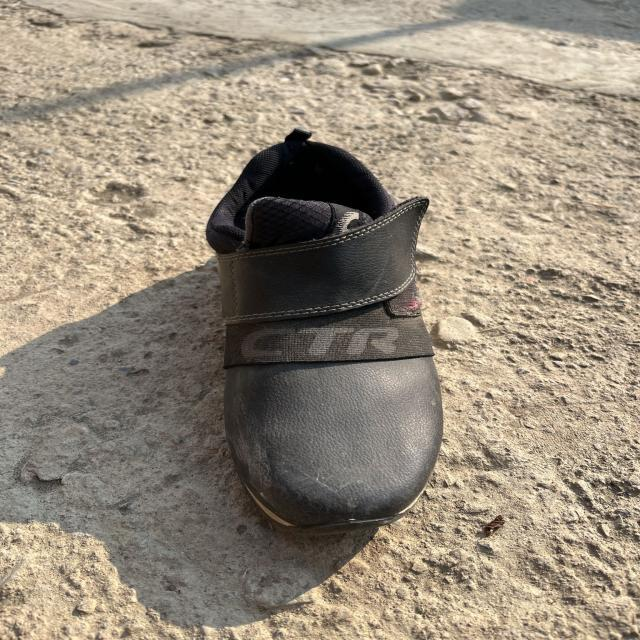shoe: (203, 136, 444, 534)
